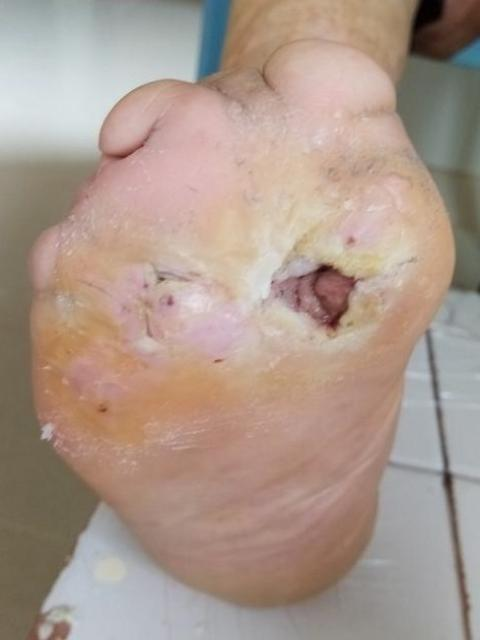wound: (255, 227, 381, 342), (123, 254, 208, 354)
